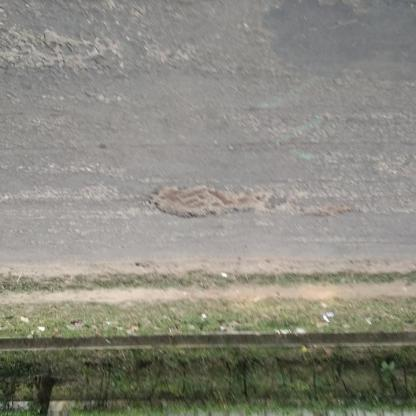pothole: (151, 181, 278, 222)
